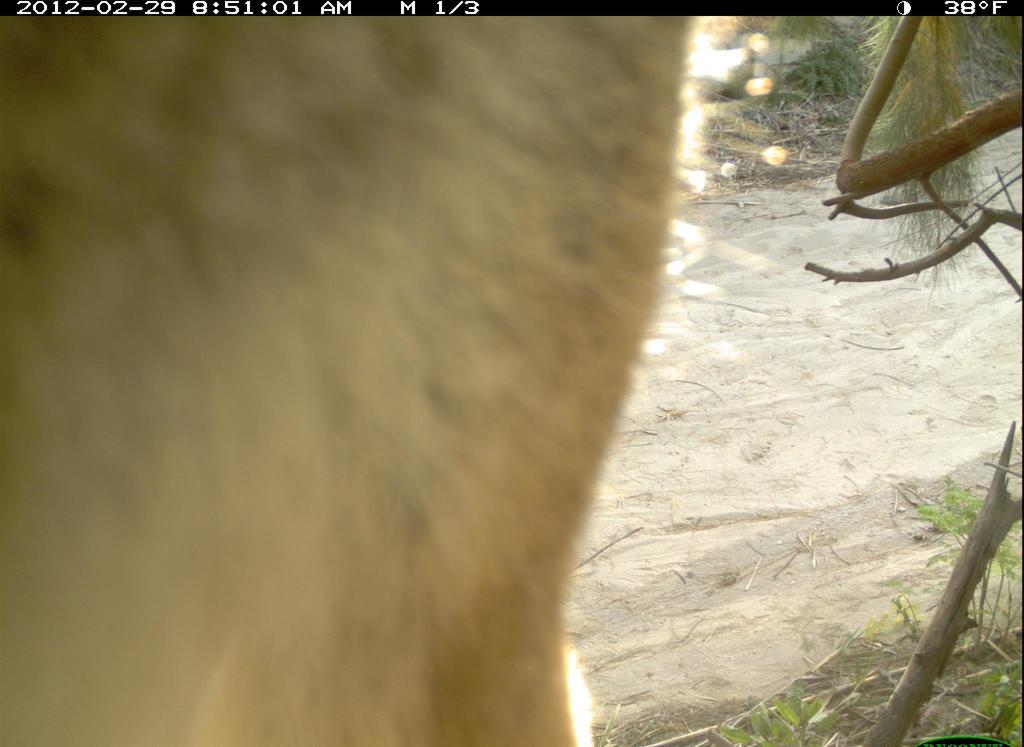coyote: (1, 15, 769, 747)
